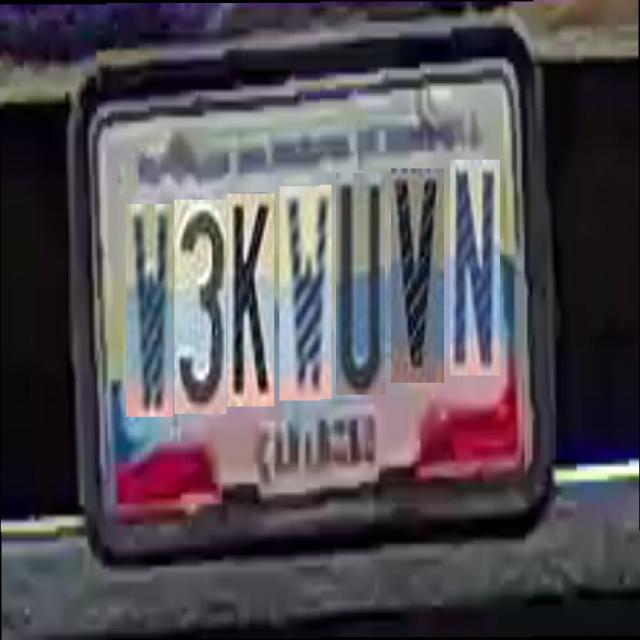3: (174, 198, 227, 412)
K: (227, 192, 274, 405)
N: (450, 160, 500, 376)
U: (336, 173, 385, 394)
V: (391, 168, 444, 382)
W: (280, 184, 332, 400), (126, 202, 173, 416)
